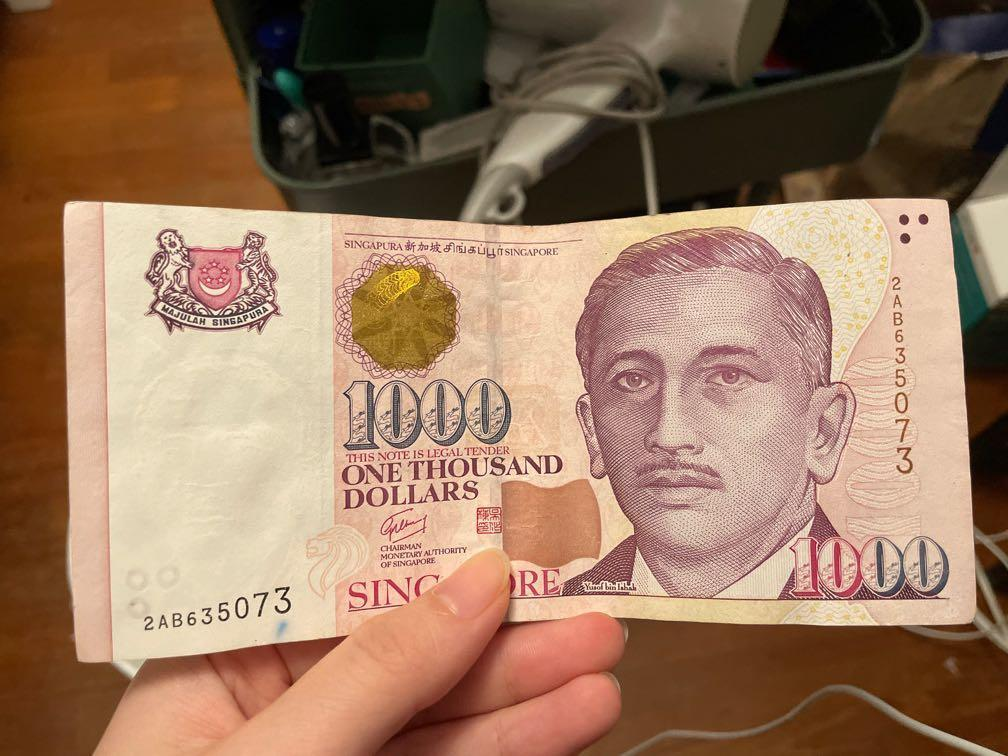1000SingaporeDollar: (78, 211, 951, 631)
